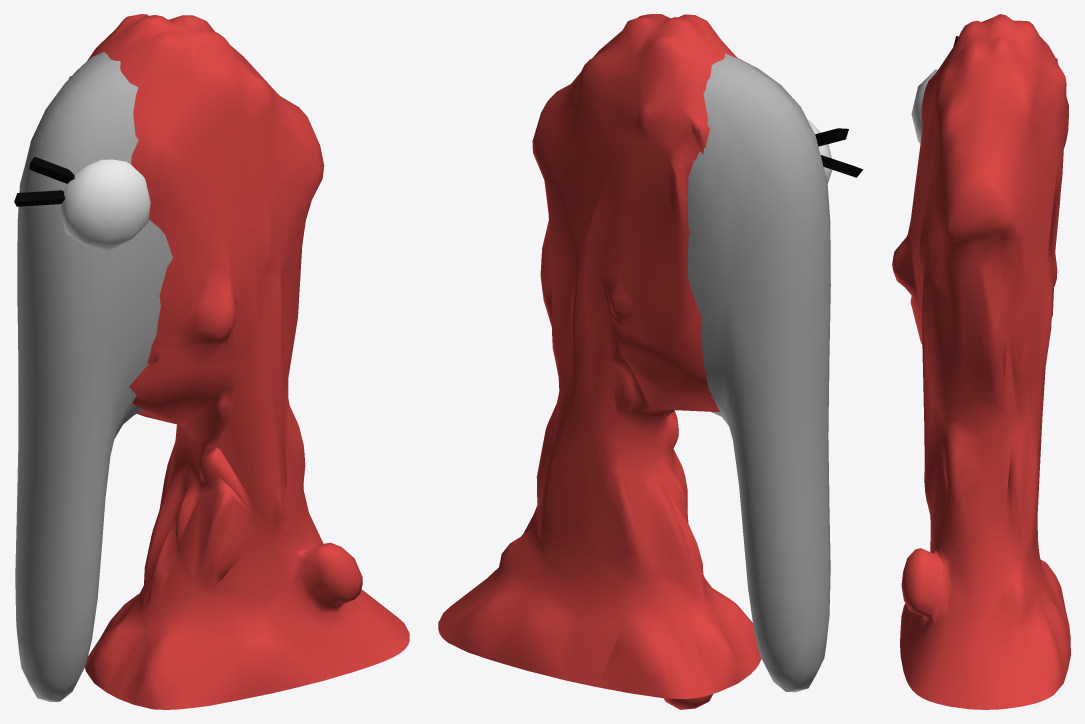
File: Infected.fbx
The picture shows the model from 3 angles, left to right: view 1: azimuth 30°, elevation 25°; view 2: azimuth 150°, elevation 25°; view 3: azimuth 270°, elevation 25°; orthographic projection. The views are drawn at different scales.
Visible parts, largest first — view 1: Cube.001, Cube, Icosphere, Cylinder; view 2: Cube.001, Cube, Cylinder; view 3: Cube.001, Icosphere.
Part boxes in pixels (<box>): Cube.001: <box>69,14,409,709</box>; Cube: <box>15,52,172,701</box>; Icosphere: <box>60,159,150,250</box>; Cylinder: <box>14,156,74,206</box>; Cube.001: <box>438,14,761,698</box>; Cube: <box>687,53,830,692</box>; Cylinder: <box>815,128,863,177</box>; Cube.001: <box>892,14,1070,709</box>; Icosphere: <box>911,69,937,143</box>.
Bounding box in the file's own units: 281 × 121 × 460.
